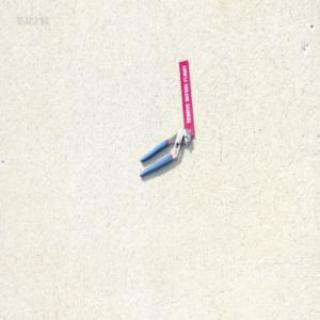LuggageTagtrack_idkeyframe: (176, 56, 193, 136)
Pliertrack_idkeyframe: (137, 126, 190, 178)
